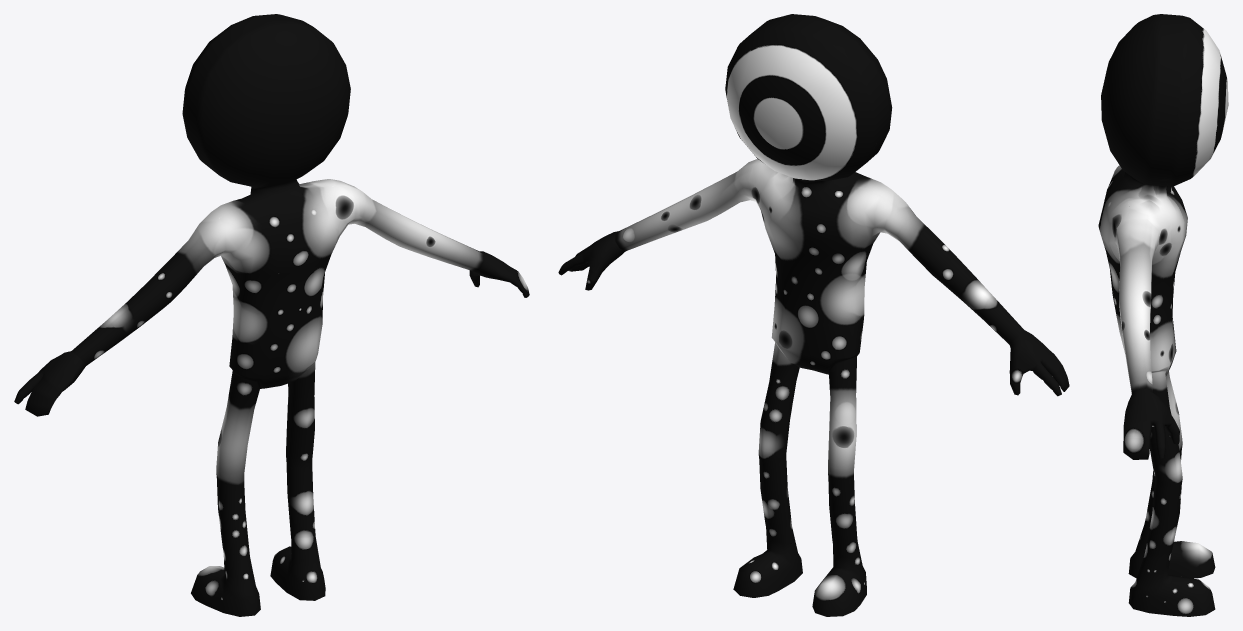
The model's file is rig_char_07.fbx.
The picture shows the model from 3 angles, left to right: view 1: azimuth 30°, elevation 25°; view 2: azimuth 150°, elevation 25°; view 3: azimuth 270°, elevation 25°; orthographic projection.
Parts seen in each view (by area): view 1: mesh_char_018; view 2: mesh_char_018; view 3: mesh_char_018.
Part boxes in pixels (box(x1,y1,x2,y2)): mesh_char_018: box(14, 14, 529, 616); mesh_char_018: box(558, 14, 1069, 616); mesh_char_018: box(1098, 14, 1228, 616).
Size of the model in its own units: 9.26 by 10.01 by 2.08.
